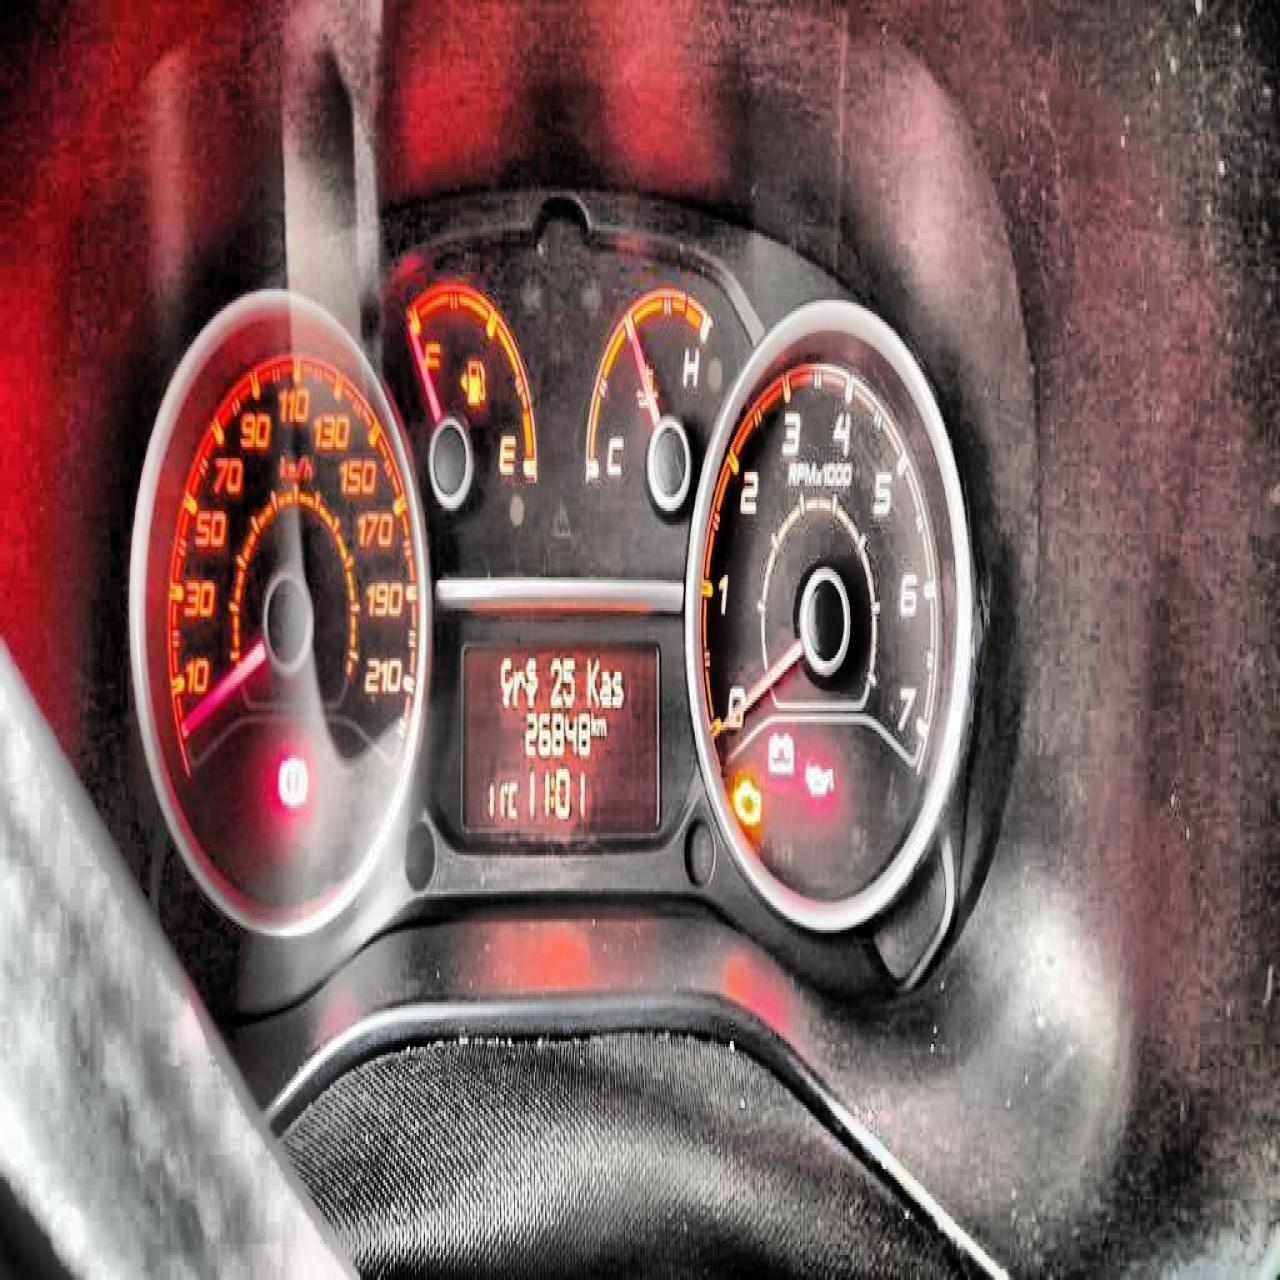0: (553, 764, 568, 819)
1: (577, 767, 585, 817), (527, 767, 533, 817), (543, 767, 549, 817), (497, 777, 504, 817), (488, 781, 493, 813)
2: (524, 708, 538, 755), (549, 655, 561, 706)
4: (564, 710, 577, 753)
5: (561, 655, 573, 706)
6: (538, 708, 550, 755)
8: (578, 710, 591, 755), (550, 710, 563, 755)
X: (524, 655, 538, 706), (585, 655, 599, 706), (498, 653, 511, 706), (610, 667, 624, 706), (506, 777, 519, 817), (511, 667, 524, 706), (599, 669, 611, 704), (595, 714, 606, 735), (549, 775, 554, 809), (590, 708, 595, 736)
odometer: (459, 639, 660, 833)
